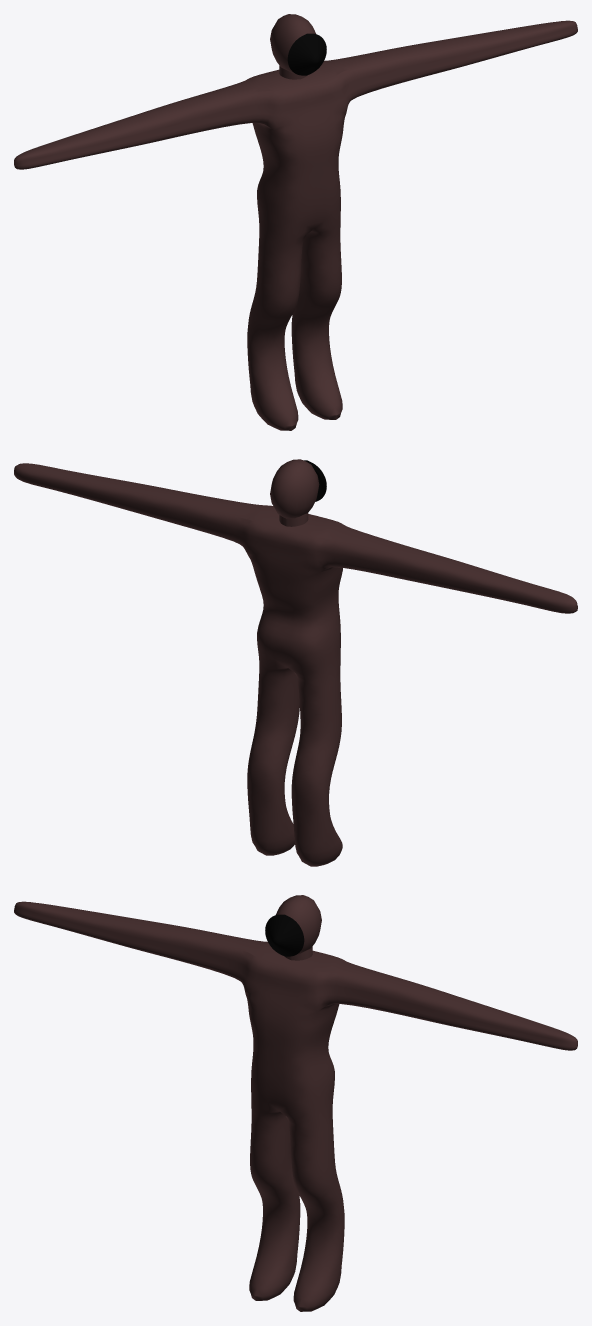
Rendered from draft.fbx.
The picture shows the model from 3 angles, top to bottom: view 1: azimuth 30°, elevation 25°; view 2: azimuth 150°, elevation 25°; view 3: azimuth 330°, elevation 25°; orthographic projection.
Visible parts, largest first — view 1: Cube, Disc; view 2: Cube; view 3: Cube, Disc.
Boxes of the visible parts, box(x1,y1,x2,y2) form: Cube: box(14, 14, 577, 430); Disc: box(287, 33, 326, 75); Cube: box(14, 459, 577, 866); Cube: box(14, 895, 577, 1311); Disc: box(265, 914, 304, 956).
Size of the model in its own units: 889 by 602 by 103.
